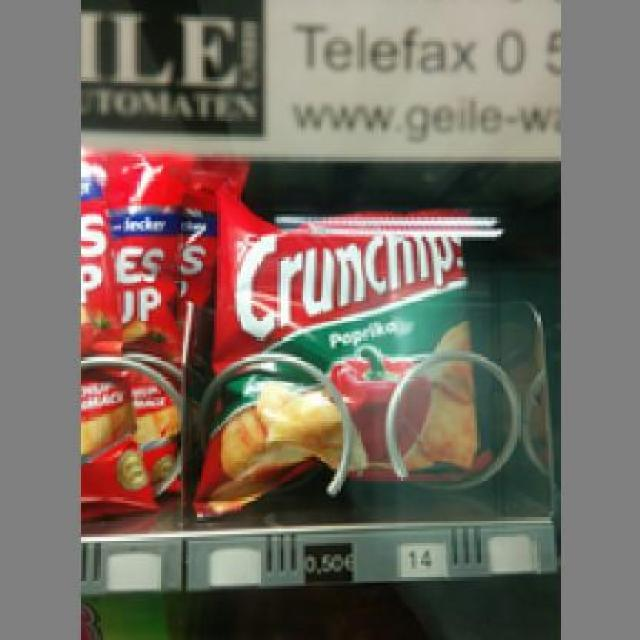Chips: (209, 192, 494, 497)
